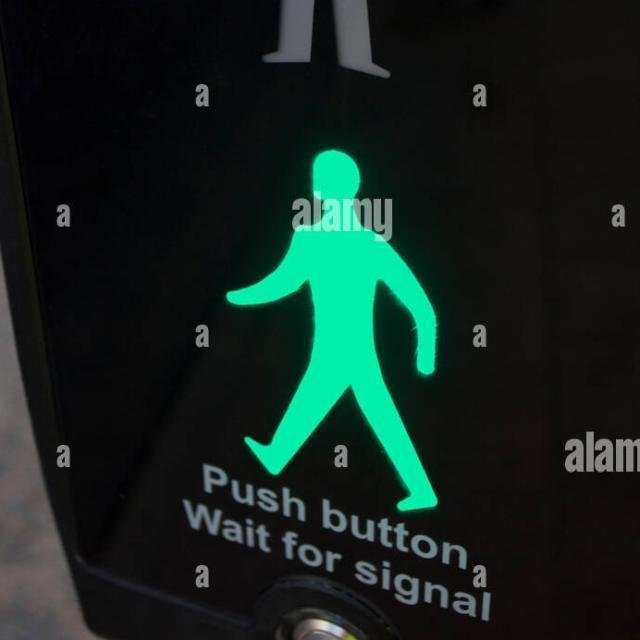geen-crossing: (218, 140, 467, 531)
